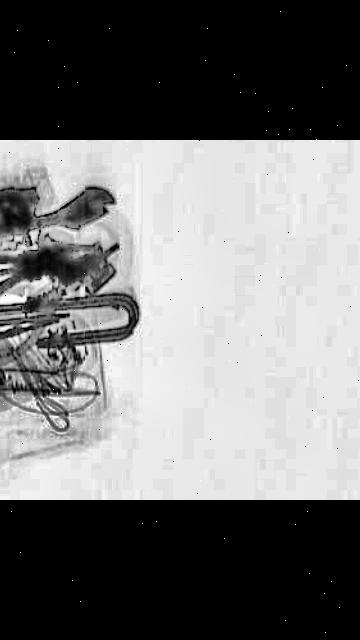Pliers: (0, 226, 119, 329)
Wrench: (0, 184, 129, 272)
